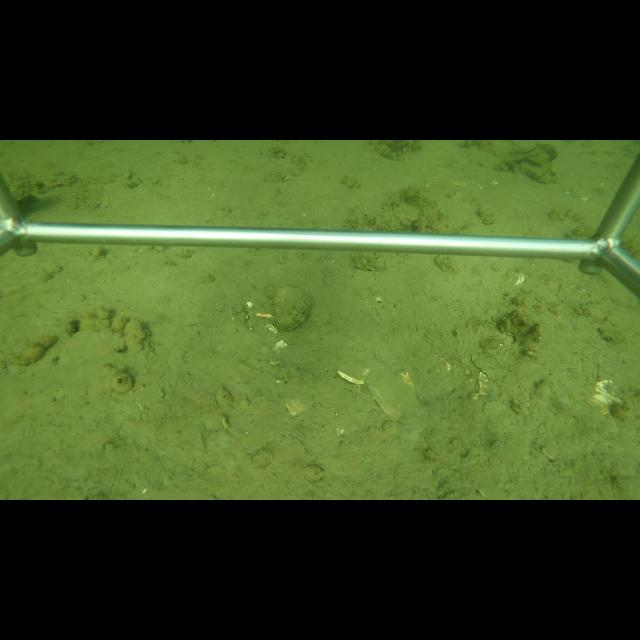Oyster-Closed: (272, 285, 312, 332), (505, 143, 539, 160)
